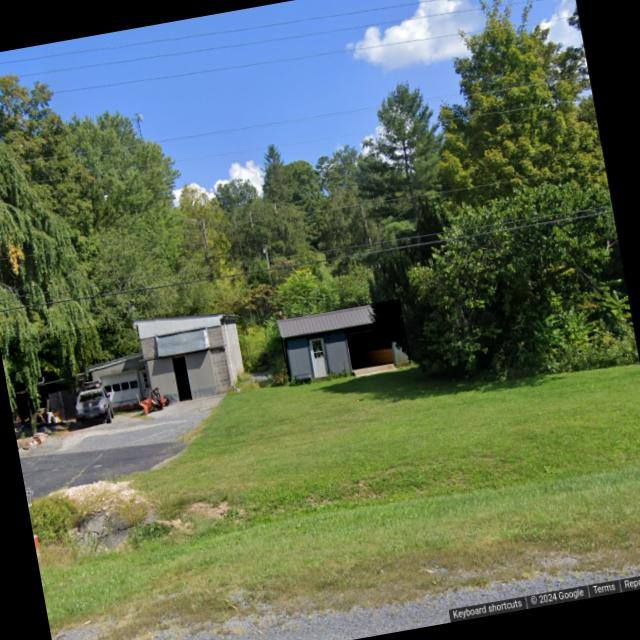House: (6, 300, 254, 431), (278, 298, 410, 386)
